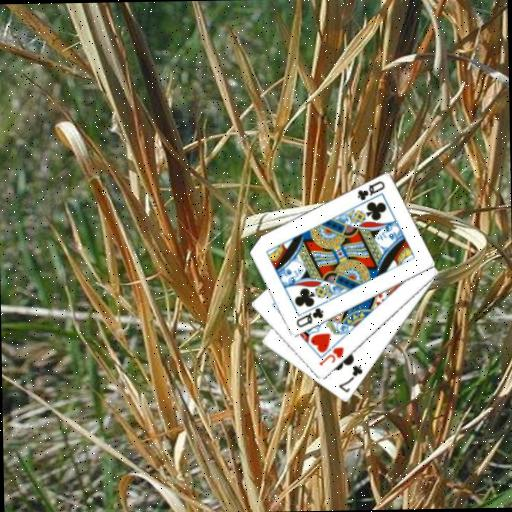7C: (335, 362, 365, 395)
JH: (316, 344, 346, 368)
QC: (293, 305, 326, 330), (354, 178, 387, 203)
